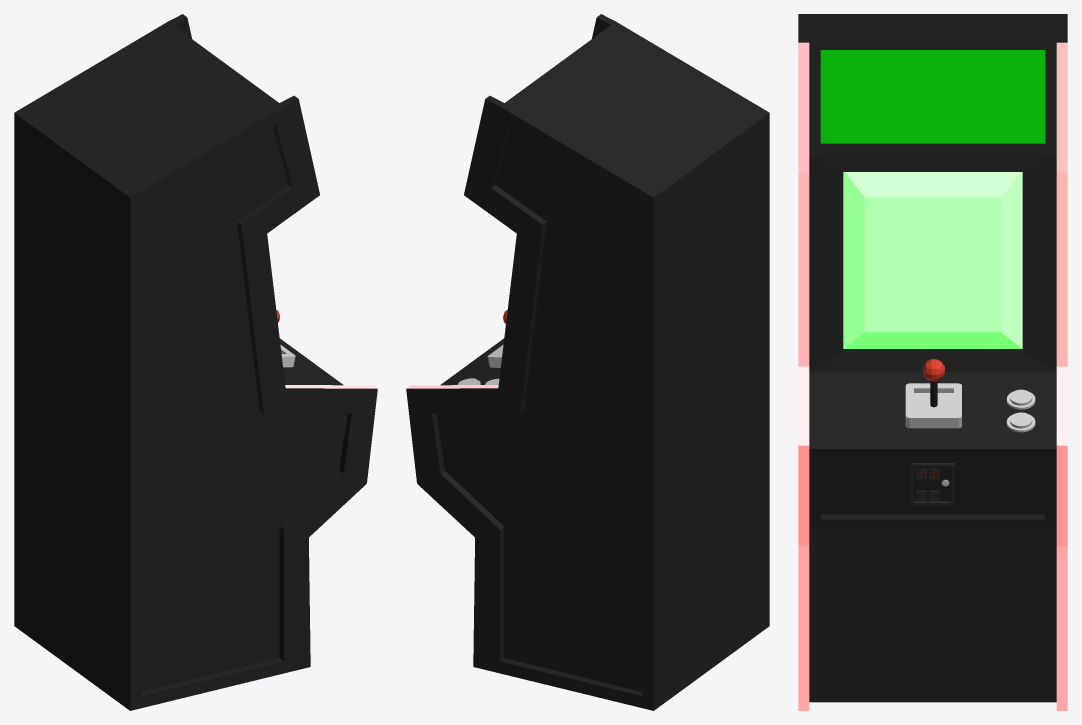
The picture shows the model from 3 angles, left to right: view 1: azimuth 30°, elevation 25°; view 2: azimuth 150°, elevation 25°; view 3: azimuth 270°, elevation 25°; orthographic projection. The views are drawn at different scales.
Visible parts, largest first — view 1: Arcade_0; view 2: Arcade_0; view 3: Arcade_0, Joystick_1, Button_4, Base_8.
Part boxes in pixels (box(x1,y1,x2,y2)): Arcade_0: box(14, 14, 377, 710); Arcade_0: box(406, 14, 769, 710); Arcade_0: box(798, 14, 1067, 710); Joystick_1: box(905, 359, 961, 428); Button_4: box(1006, 389, 1035, 432); Base_8: box(910, 463, 954, 505).
Size of what is drawn, in the model's own units: 2.93 by 6.46 by 2.38.
8 materials, 1 textured.
